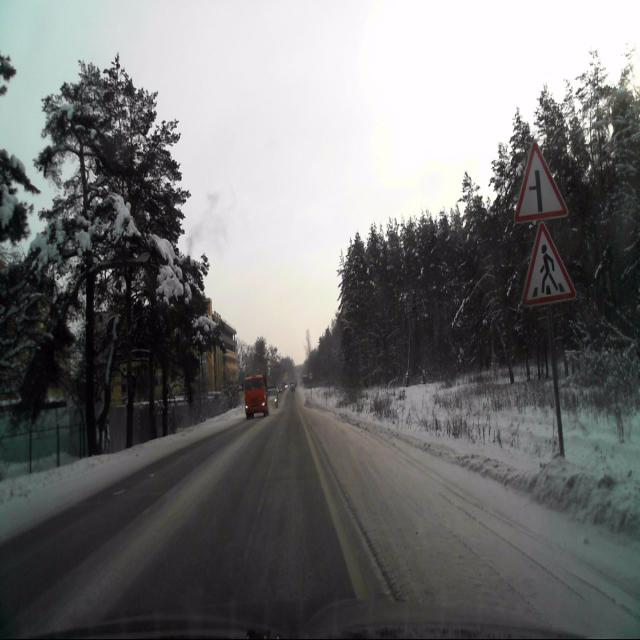road sign: (522, 221, 576, 305), (514, 142, 568, 224), (546, 302, 564, 459)
